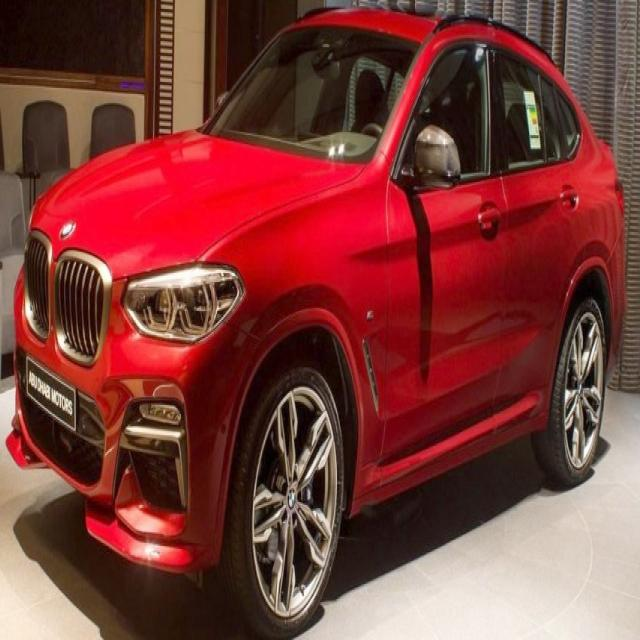red: (20, 6, 640, 622)
